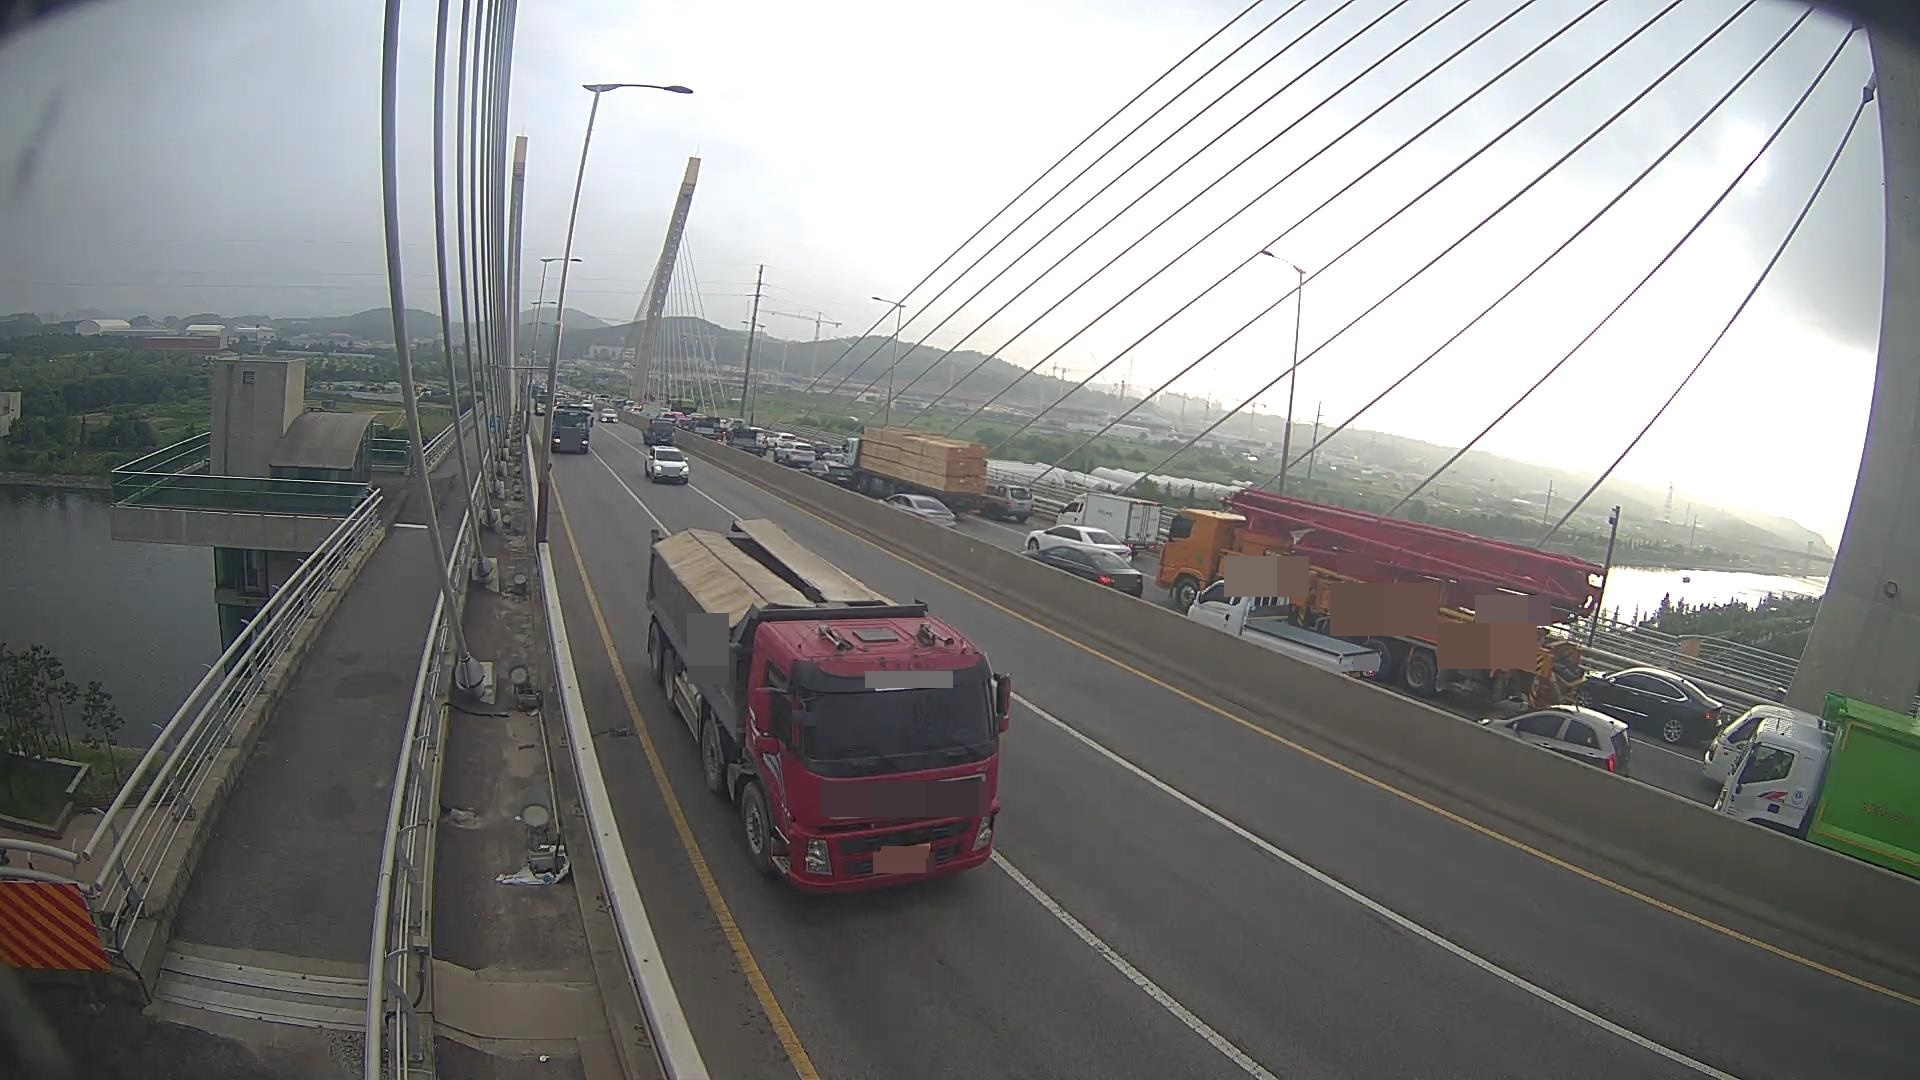정상차량: (647, 518, 1010, 892)
